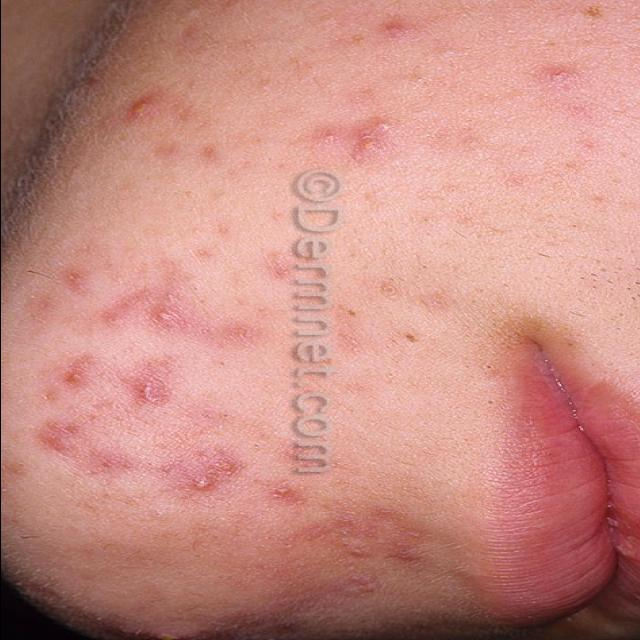Acne: (100, 288, 188, 332), (156, 448, 241, 492), (118, 361, 176, 407), (344, 116, 396, 166), (118, 90, 164, 128), (532, 63, 580, 91), (60, 355, 95, 393), (129, 622, 201, 640), (374, 16, 420, 42), (378, 544, 430, 567), (38, 426, 80, 454), (260, 480, 304, 504), (59, 269, 95, 295), (344, 574, 382, 598), (340, 542, 376, 562)
